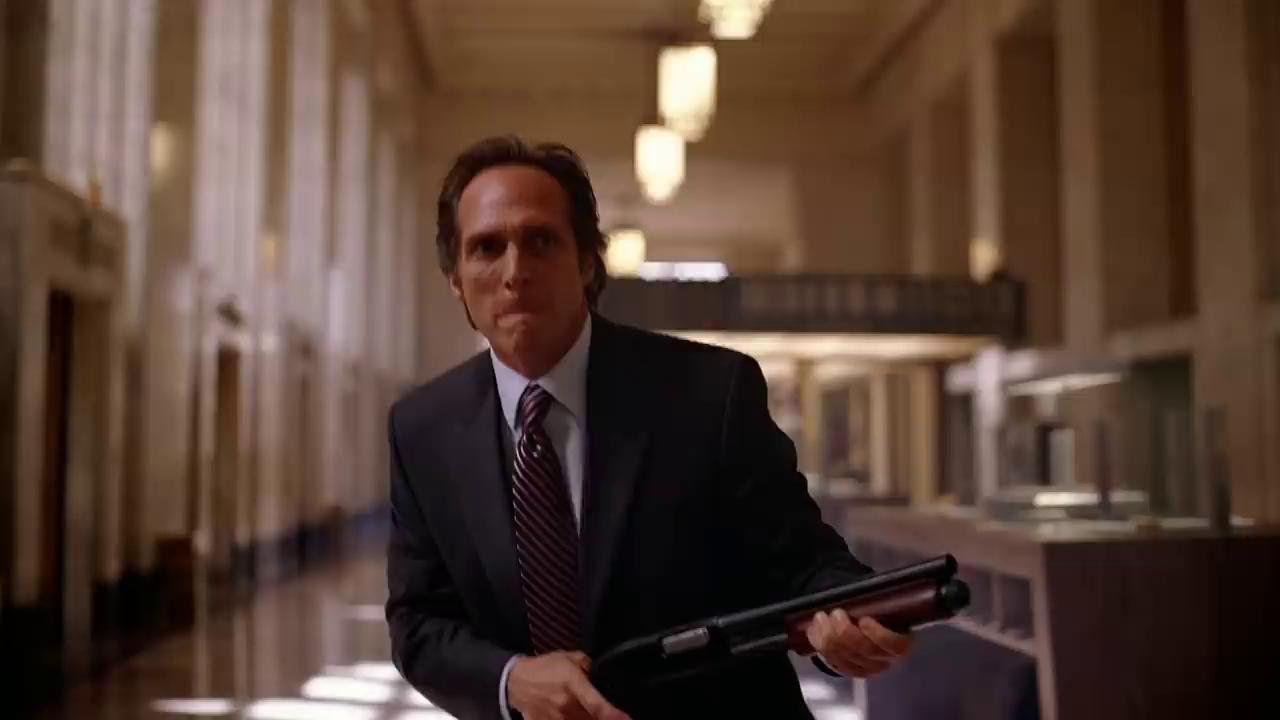gun: (511, 554, 968, 720)
